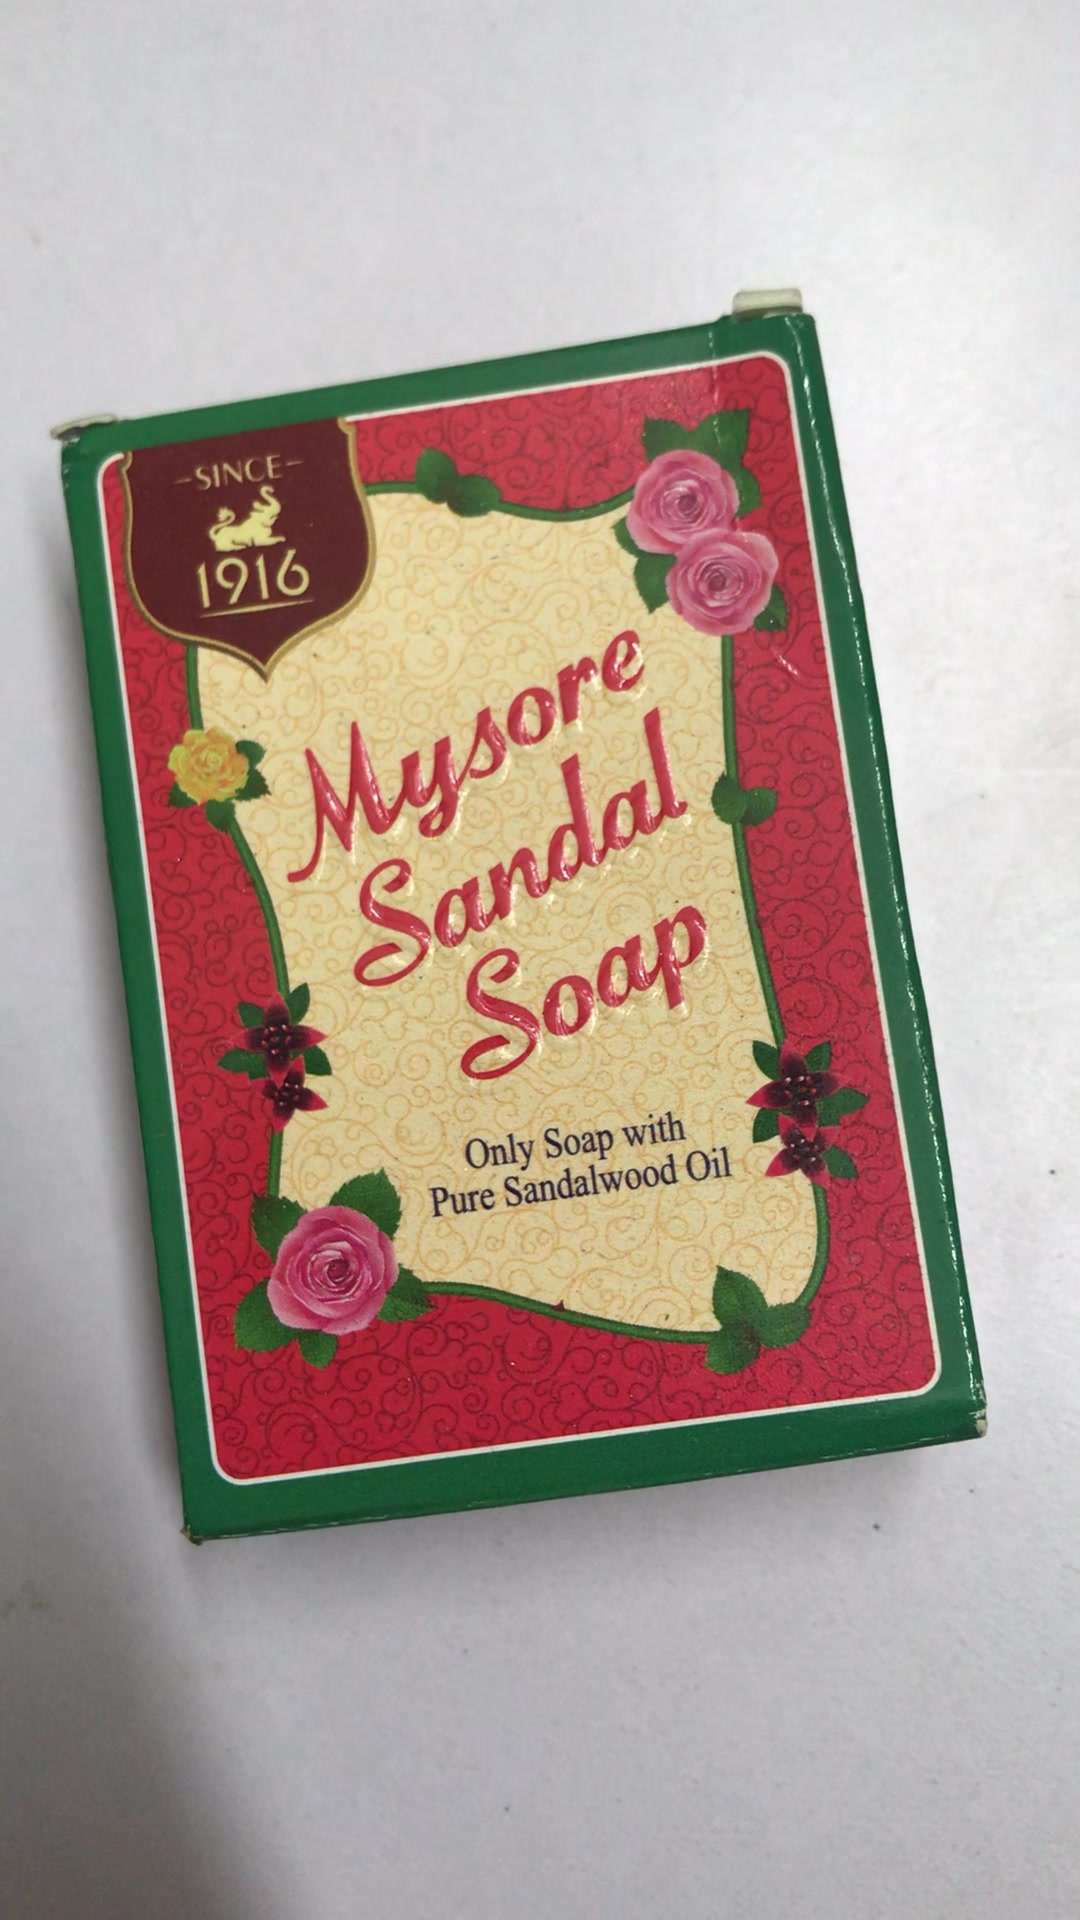mysore sandal soap: (61, 306, 986, 1548)
